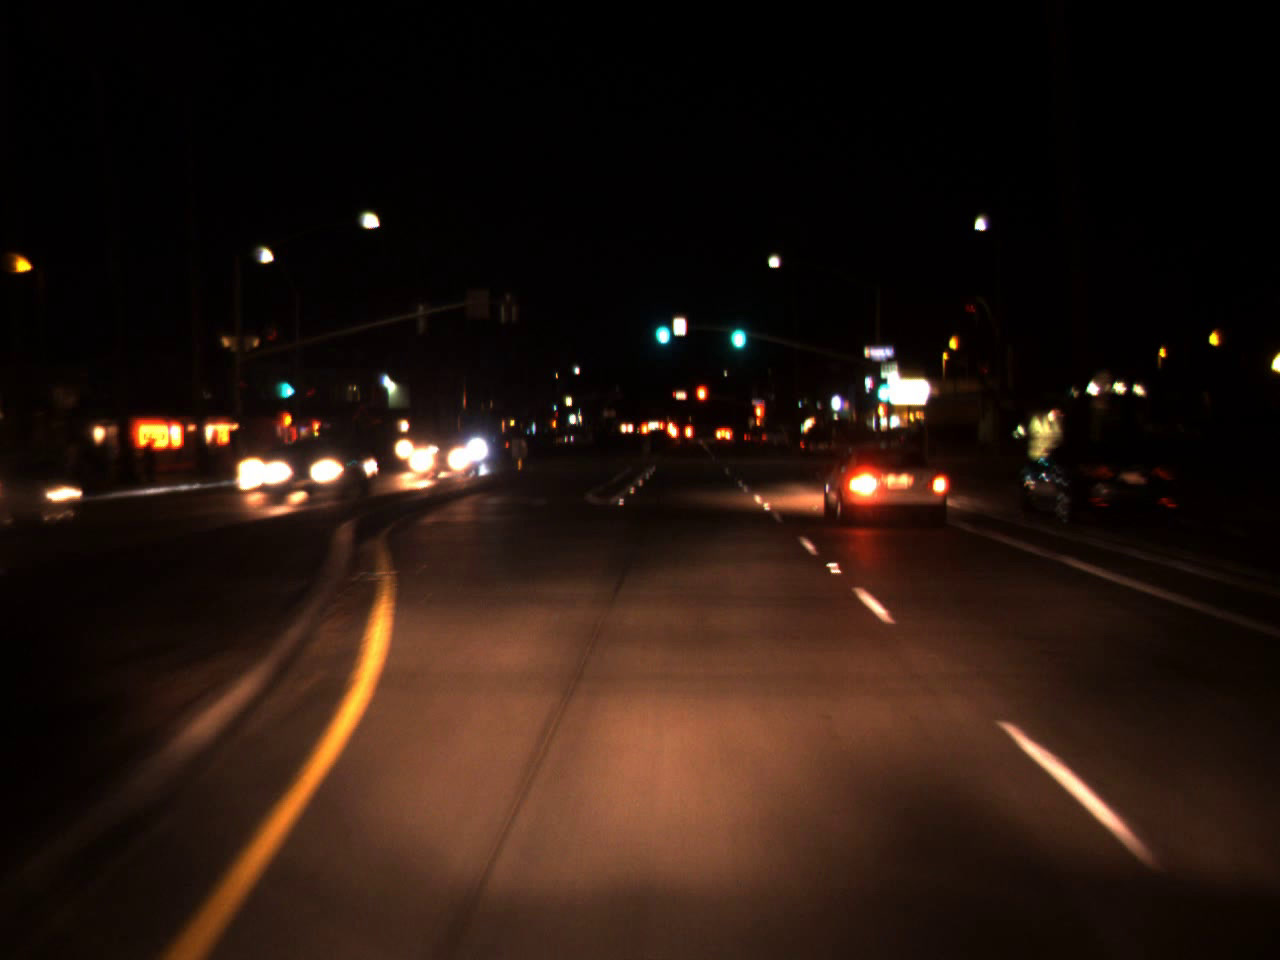go: (725, 304, 748, 355), (651, 309, 672, 348), (875, 365, 891, 404), (278, 364, 292, 403)
stop: (694, 382, 709, 419), (753, 401, 763, 436)
